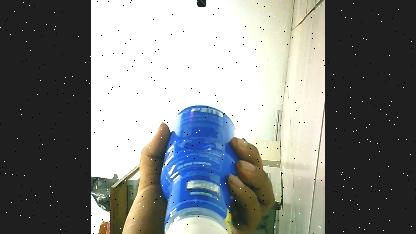Plastic Bottle: (144, 90, 272, 234)
